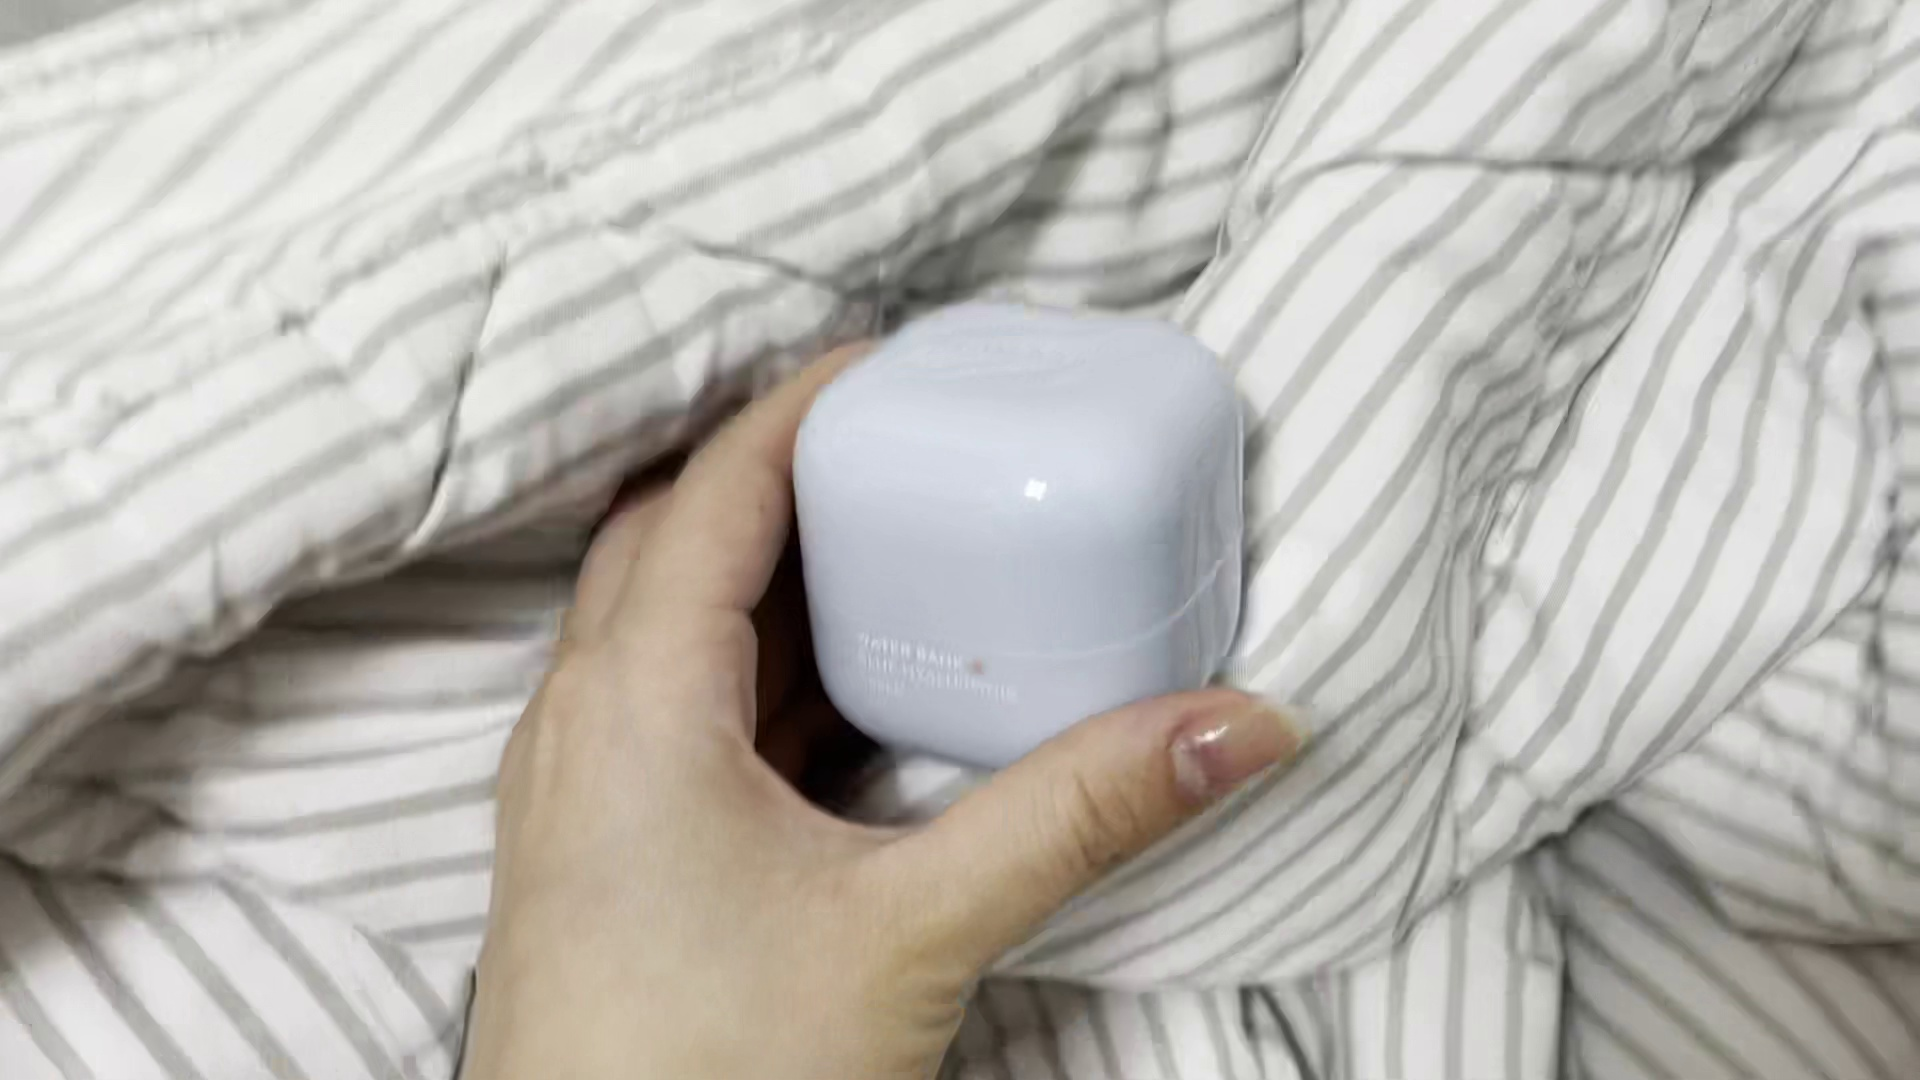cream: (785, 295, 1250, 771)
